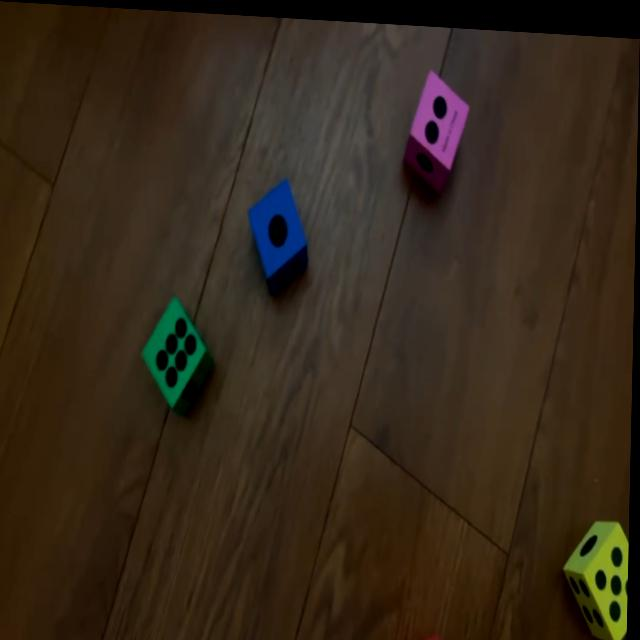blue_block: (249, 174, 311, 286)
red_block: (398, 629, 454, 640)
